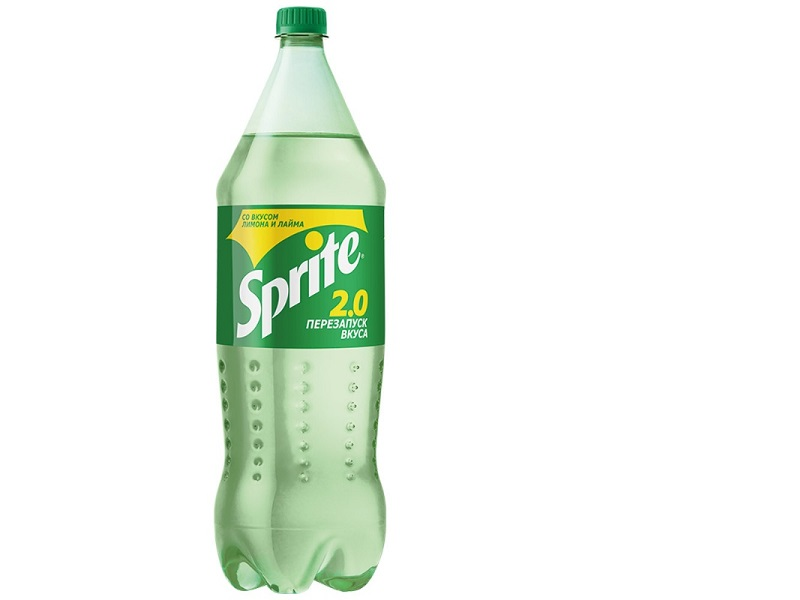lemonade: (164, 3, 515, 600)
